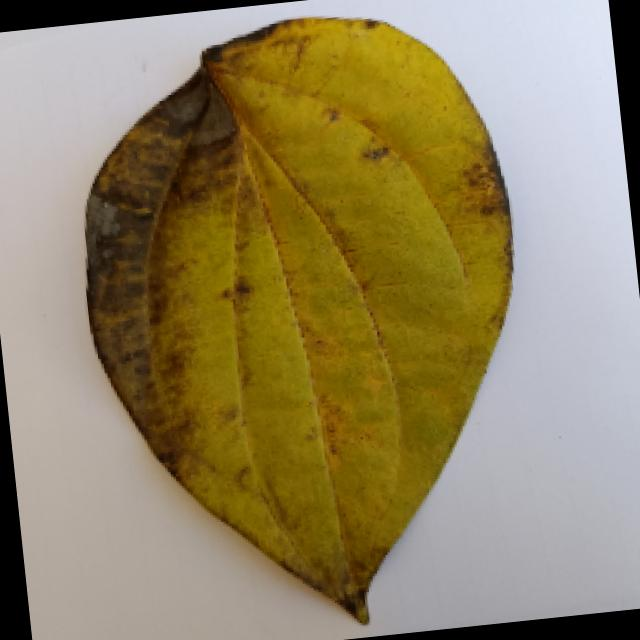slow-decline: (16, 6, 593, 640)
